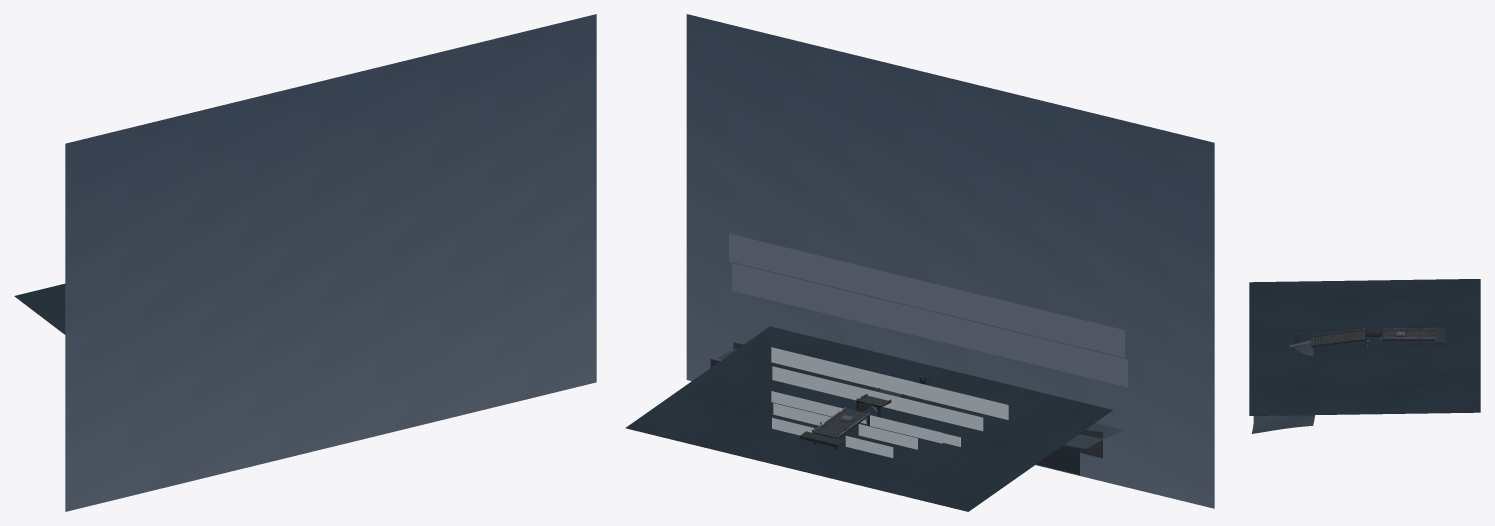
File: KnightCg_v3c.fbx
The picture shows the model from 3 angles, left to right: view 1: azimuth 30°, elevation 25°; view 2: azimuth 150°, elevation 25°; view 3: azimuth 270°, elevation 25°; orthographic projection. The views are drawn at different scales.
Visible parts, largest first — view 1: p1_sky, river_dark_water; view 2: p1_sky, river_dark_water, far_sky_cloud_00, far_sky_cloud_01, p1_river_fog_02, p1_river_fog_01, bridge_paving, far_hills_01, p1_side_fog_right_2, p1_side_fog_left_2, p1_side_fog_right_1, far_road_bank (+1 smaller); view 3: river_dark_water, far_road_bank, bridge_paving.
Boxes of the visible parts, x1,y1,x2,y2 form: p1_sky: (65, 14, 596, 511); river_dark_water: (14, 283, 65, 334); p1_sky: (686, 14, 1214, 508); river_dark_water: (625, 326, 1112, 511); far_sky_cloud_00: (732, 263, 1127, 387); far_sky_cloud_01: (729, 233, 1124, 357); p1_river_fog_02: (771, 347, 1008, 419); p1_river_fog_01: (772, 366, 983, 431); bridge_paving: (814, 389, 902, 437); far_hills_01: (710, 359, 1079, 474); p1_side_fog_right_2: (870, 415, 942, 443); p1_side_fog_left_2: (771, 391, 842, 416); p1_side_fog_right_1: (858, 424, 917, 449); far_road_bank: (717, 349, 1123, 448); river_dark_water: (1249, 279, 1480, 415); far_road_bank: (1251, 339, 1314, 433); bridge_paving: (1311, 330, 1434, 346).
Size of what is drawn, in the model's own units: 400 by 265 by 195.
102 materials, 99 textured.
